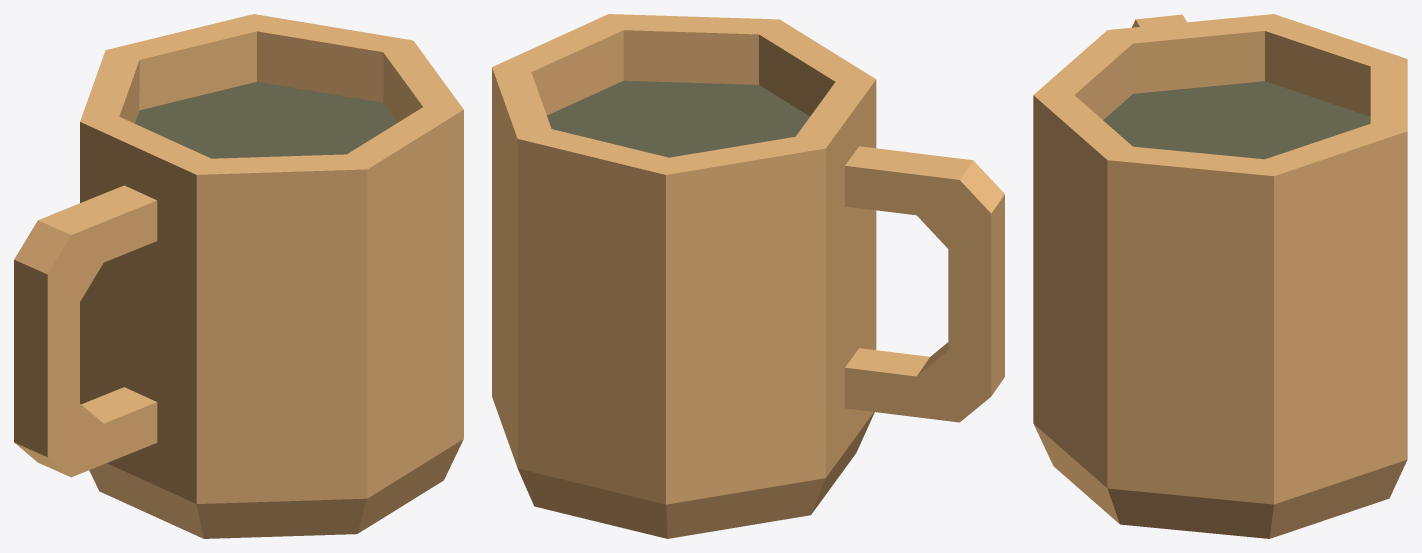
The model's file is full_tea_cup3.fbx.
3 views of the same model, side by side, from view 1: azimuth 30°, elevation 25°; view 2: azimuth 150°, elevation 25°; view 3: azimuth 270°, elevation 25° (orthographic).
Visible parts, largest first — view 1: full_tea_cup; view 2: full_tea_cup; view 3: full_tea_cup.
Part boxes in pixels (left/top/right/bottom): full_tea_cup: left=14, top=14, right=463, bottom=538; full_tea_cup: left=492, top=14, right=1004, bottom=538; full_tea_cup: left=1033, top=14, right=1407, bottom=538.
Bounding box in the file's own units: 0.1734 × 0.1255 × 0.1373.
2 materials, 1 textured.
